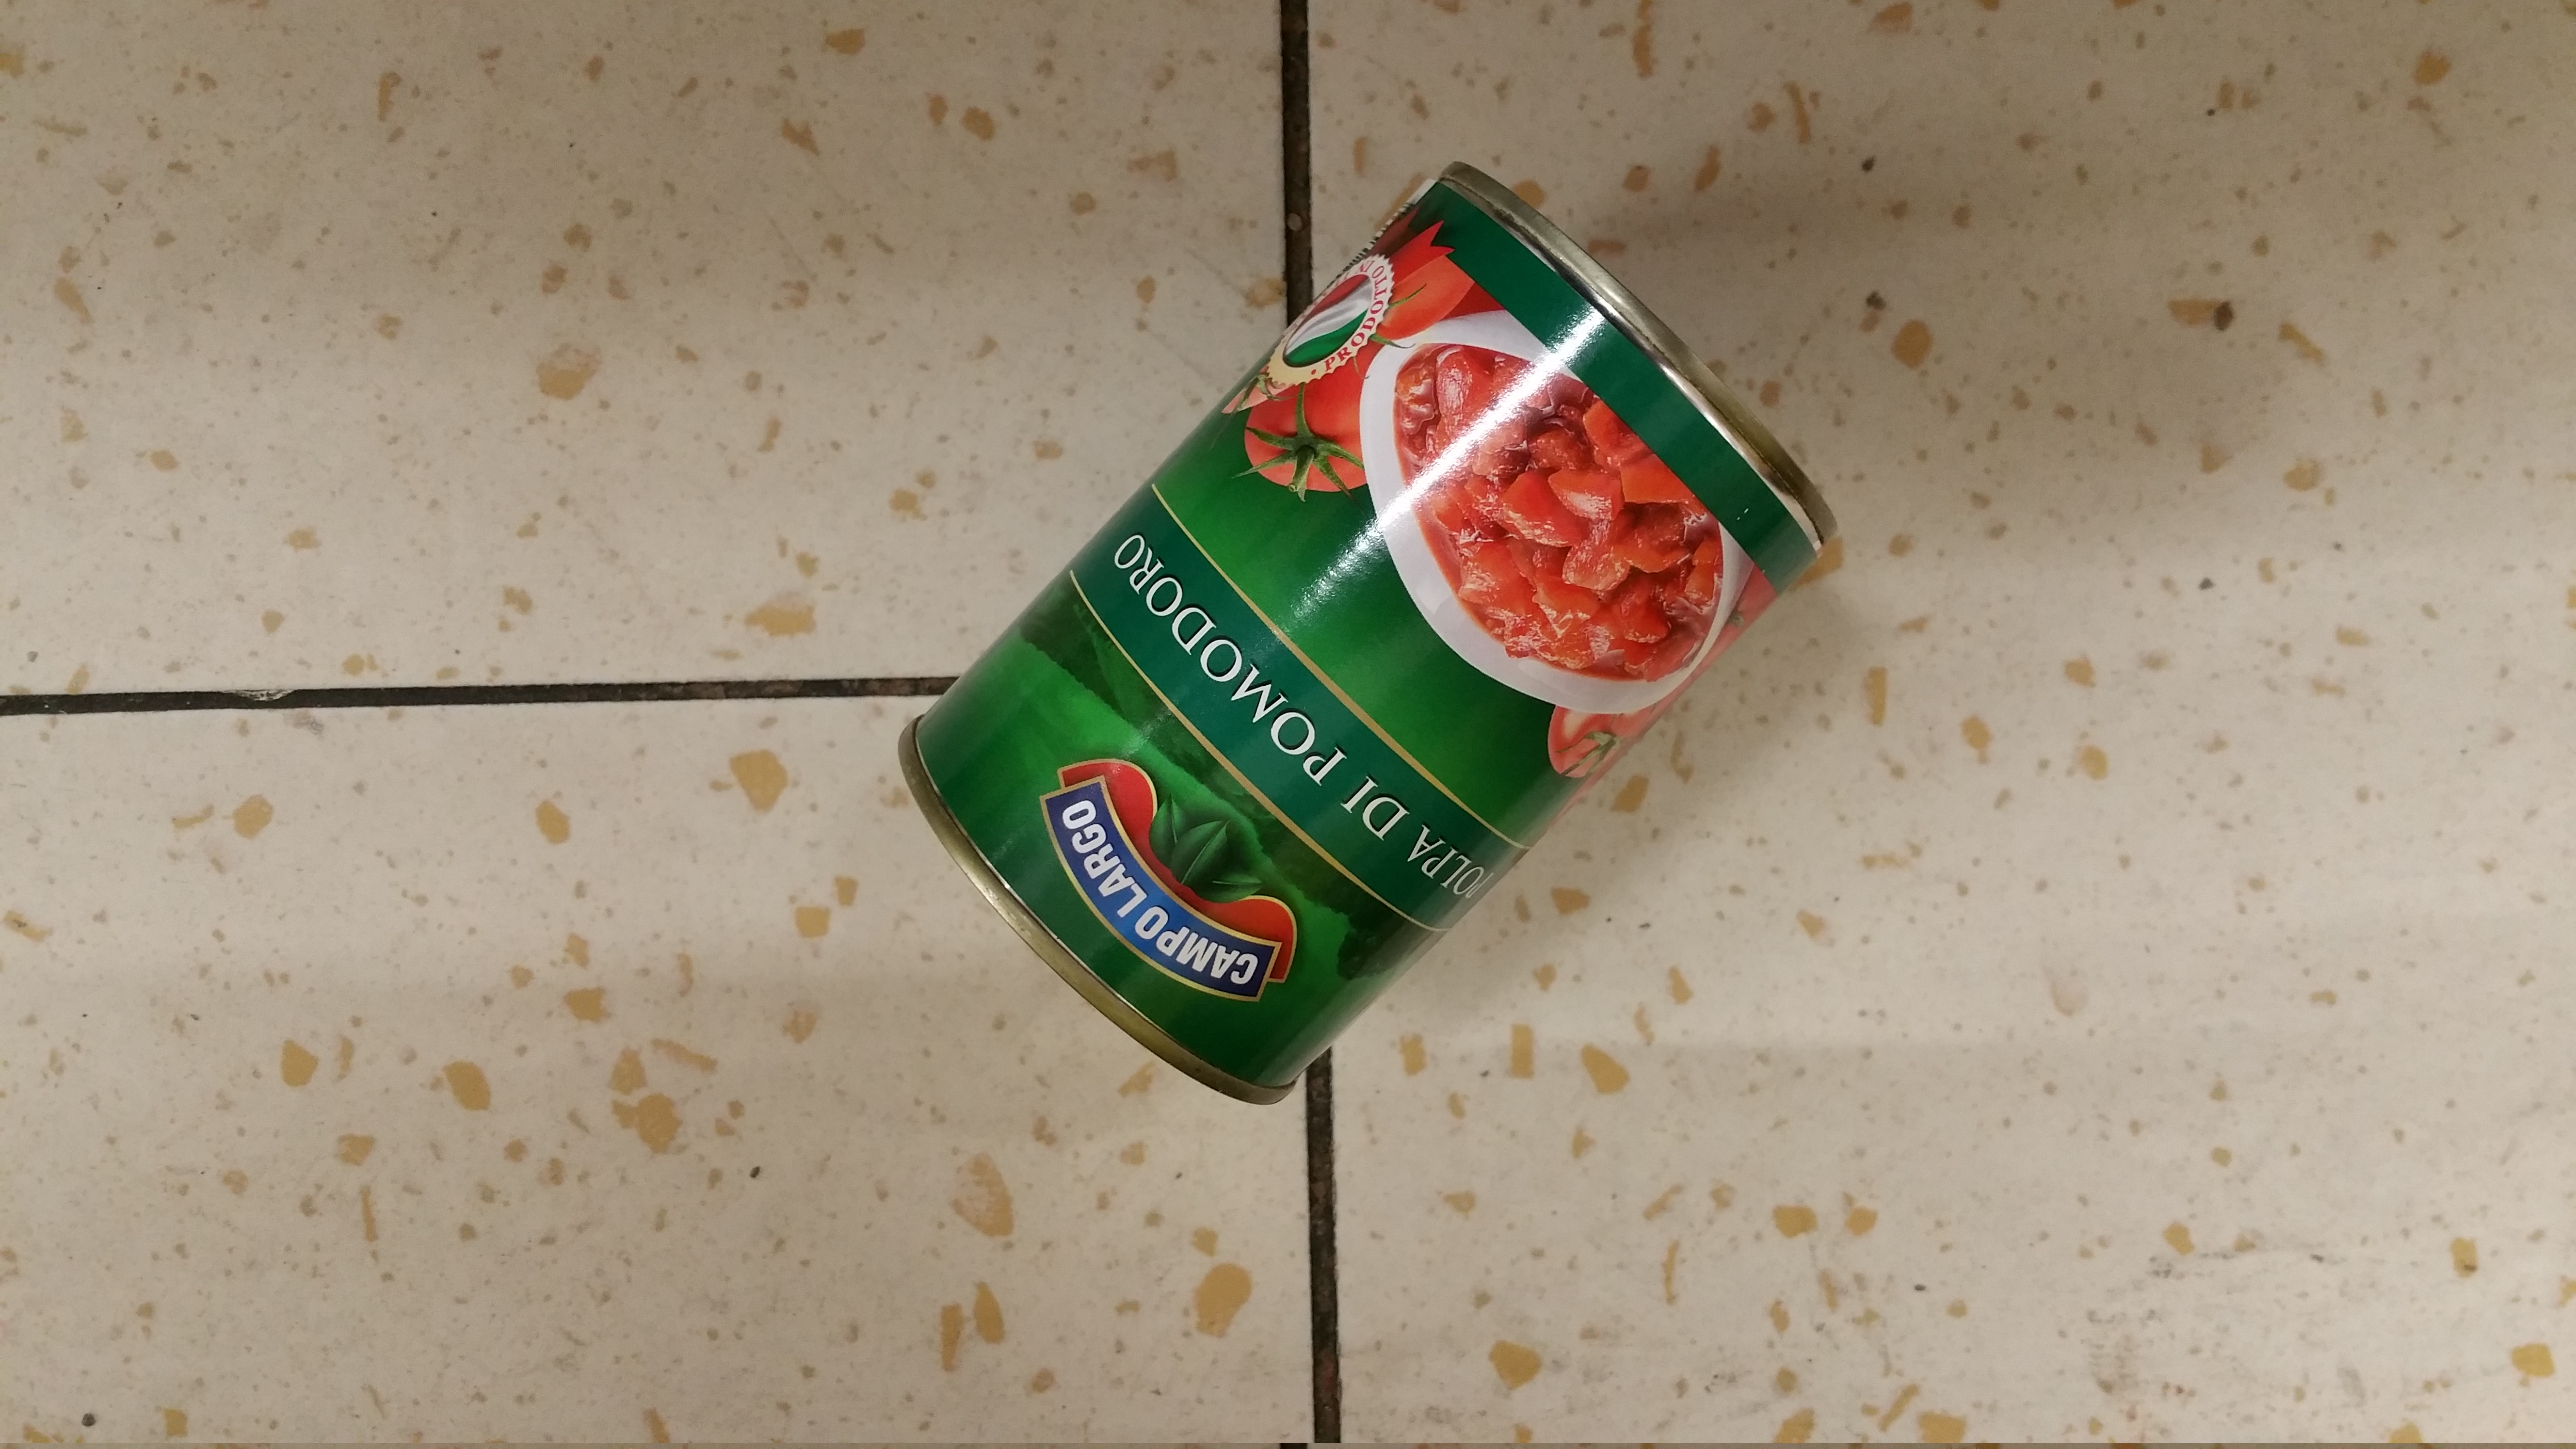metal: (833, 143, 1875, 1159)
